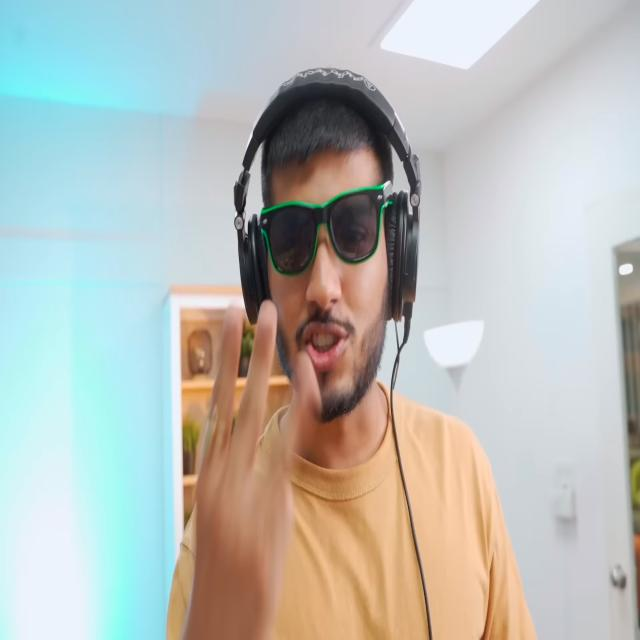Headphone: (231, 63, 422, 340)
